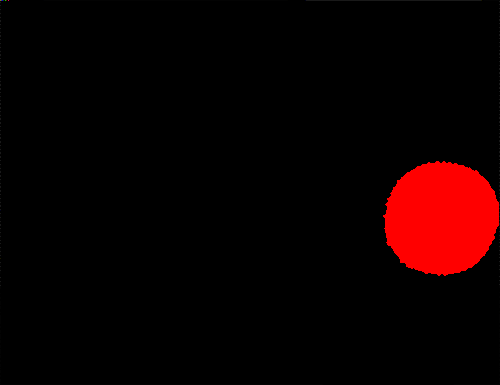stamp: (383, 160, 500, 276)
